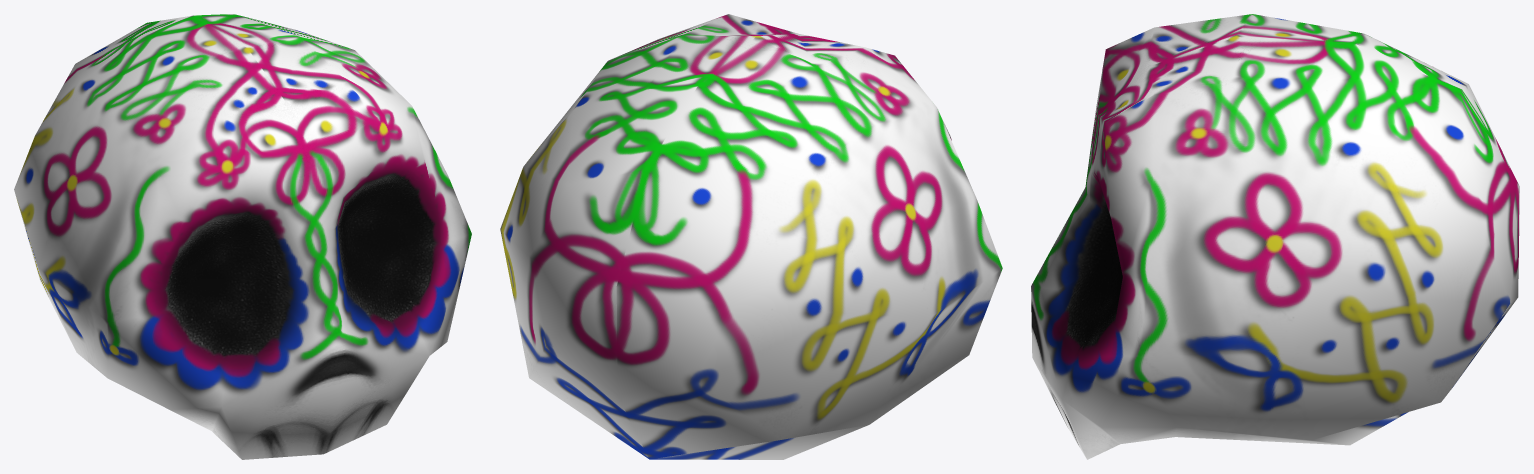
The model's file is SkullA.fbx.
The picture shows the model from 3 angles, left to right: view 1: azimuth 30°, elevation 25°; view 2: azimuth 150°, elevation 25°; view 3: azimuth 270°, elevation 25°; orthographic projection. The views are drawn at different scales.
Visible parts, largest first — view 1: SkullA; view 2: SkullA; view 3: SkullA.
Boxes of the visible parts, <box> form: SkullA: <box>14,14,471,459</box>; SkullA: <box>500,14,1002,459</box>; SkullA: <box>1031,14,1519,459</box>.
Bounding box in the file's own units: 11.51 × 10.48 × 11.92.
